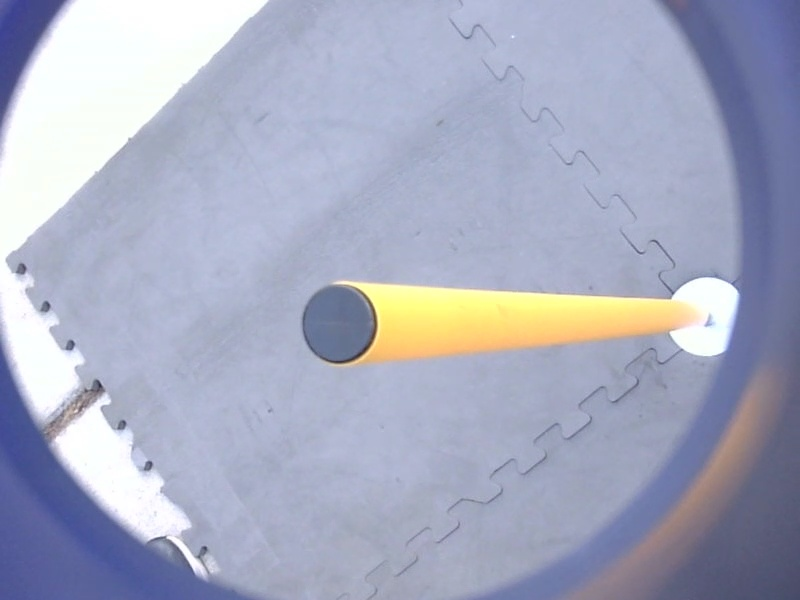tip: (295, 277, 384, 372)
